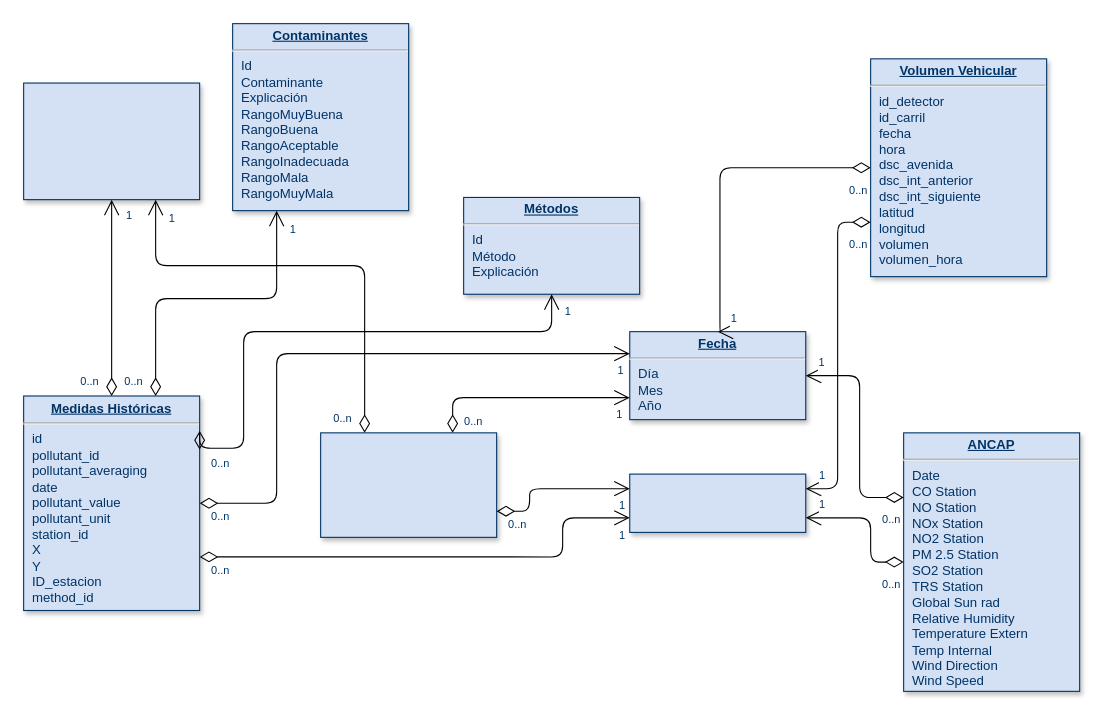
The diagram is 1106 pixels wide and 718 high, and some of its shapes have lost their labels. The shapes that lost their labels are listed below. From the top down, each one's centre as x and y in pixels, then its label:
At point 112,142: "Estaciones de la Red Id Estación X Y Explicación".
At point 409,486: "Medidas Históricas IoT id_node sensor timestamp valor_v".
At point 718,504: "Hora Hora".
